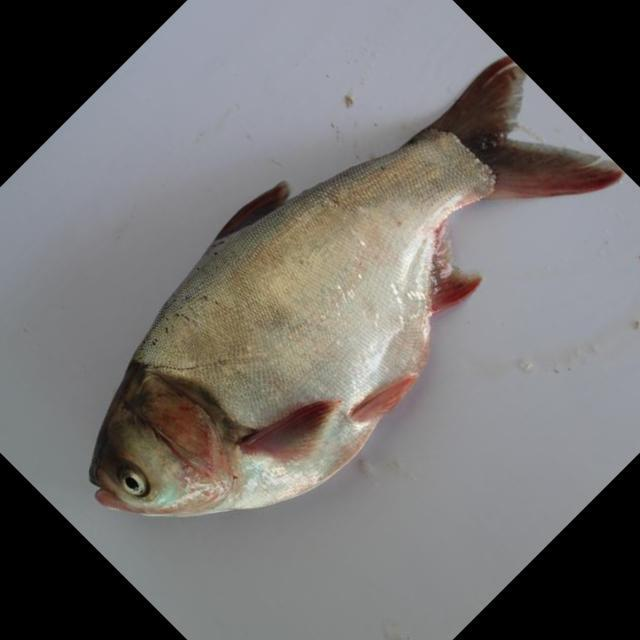SilverCarp: (75, 42, 592, 535)
